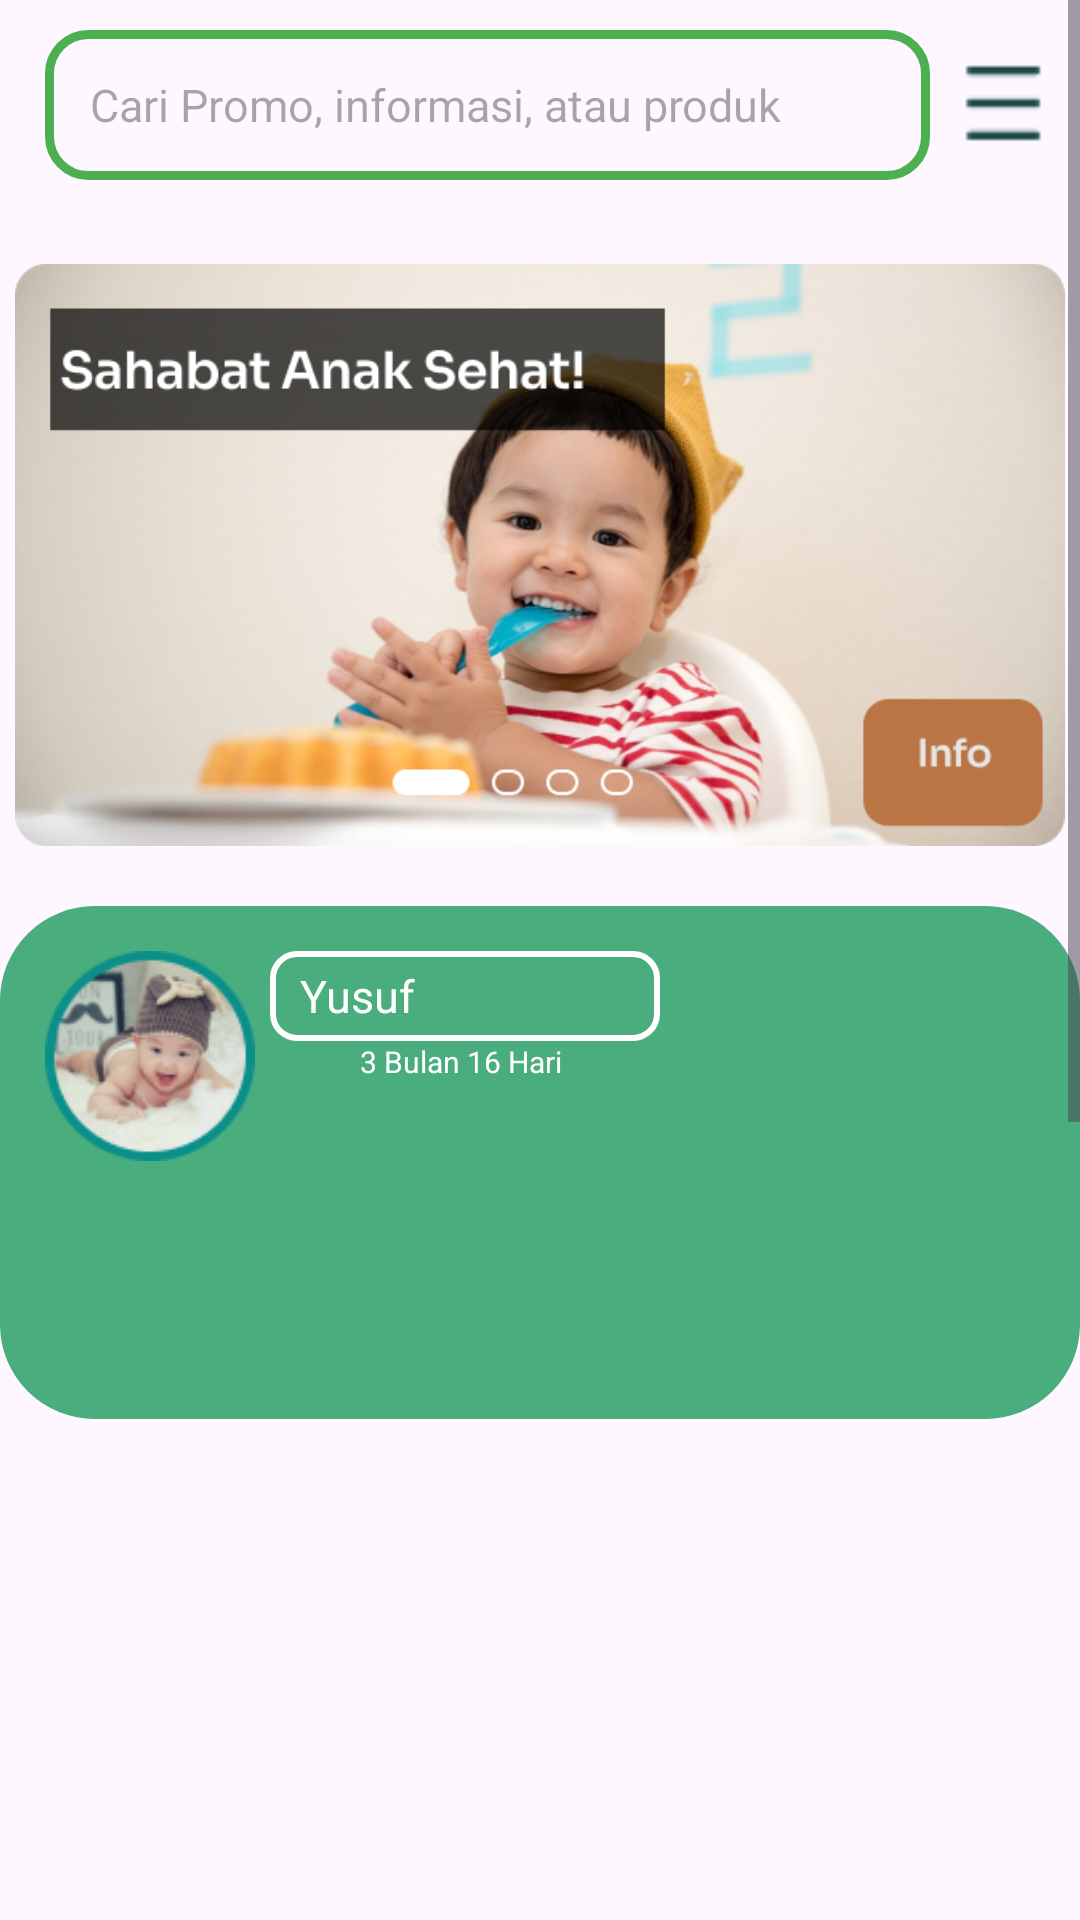

Where icons sit on this 1080x1920 app screen, as (x1, y1, x2, y2):
bayi: (45, 951, 255, 1161)
sidebar: (965, 65, 1041, 141)
